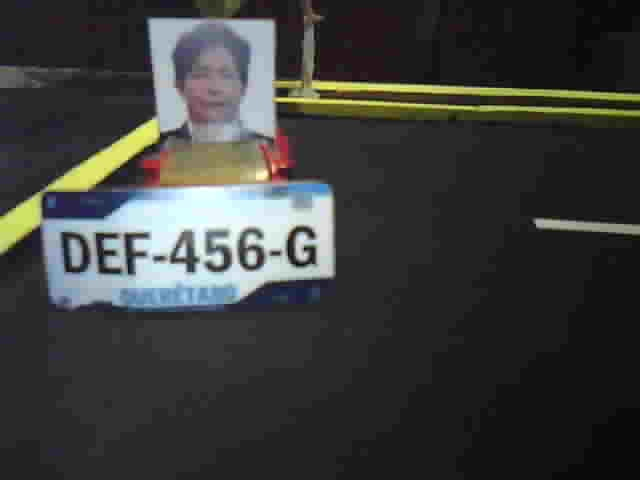PLACA: (40, 179, 340, 316)
ROSTRO: (158, 20, 275, 147)
